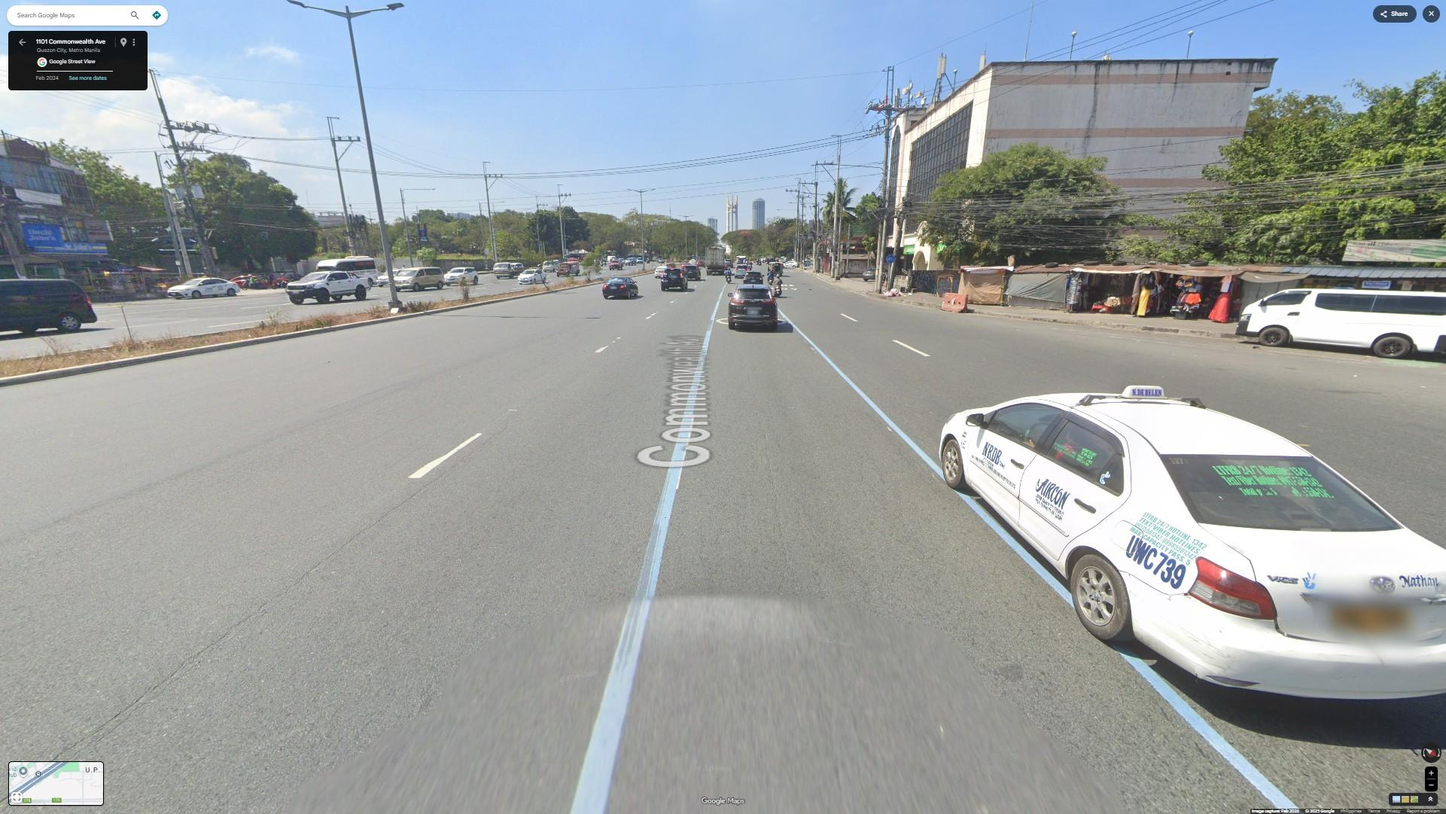pedestrian: (880, 269, 889, 291)
